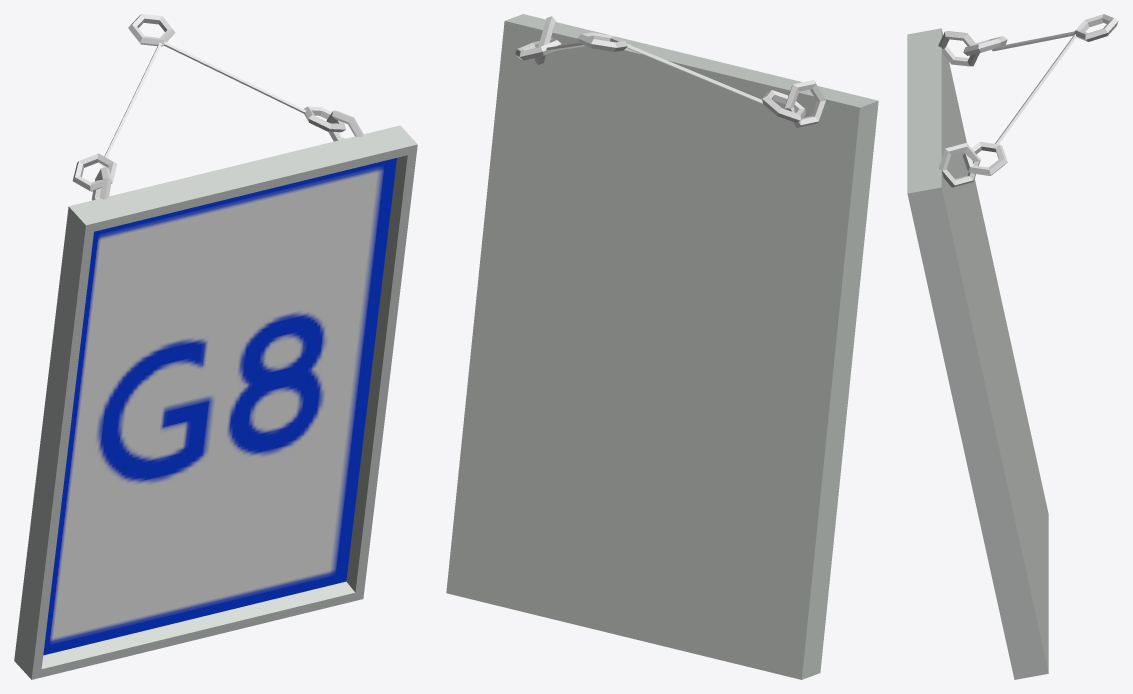
The picture shows the model from 3 angles, left to right: view 1: azimuth 30°, elevation 25°; view 2: azimuth 150°, elevation 25°; view 3: azimuth 270°, elevation 25°; orthographic projection. The views are drawn at different scales.
Parts seen in each view (by area): view 1: G8; view 2: G8; view 3: G8.
Boxes of the visible parts, x1,y1,x2,y2 form: G8: (14, 14, 417, 679); G8: (446, 14, 878, 679); G8: (907, 14, 1118, 679).
Bounding box in the file's own units: 200 × 606 × 357.
